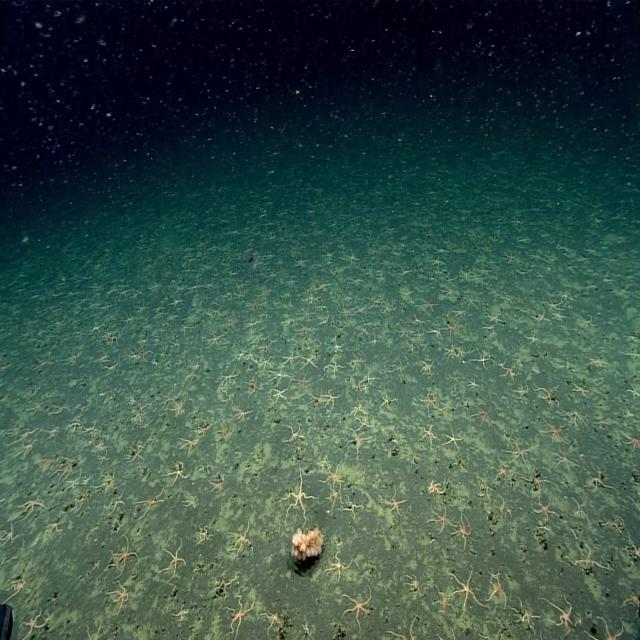brittle-stars: (283, 468, 312, 520), (340, 586, 372, 630), (450, 569, 480, 614), (228, 594, 255, 636), (546, 594, 573, 630), (135, 488, 165, 519), (23, 604, 46, 640), (514, 599, 538, 633), (328, 548, 349, 584), (232, 521, 253, 556), (431, 504, 452, 538), (163, 542, 185, 574), (20, 493, 47, 519), (505, 440, 530, 467), (108, 582, 130, 612), (454, 514, 472, 550), (385, 487, 406, 517), (7, 573, 27, 603), (167, 461, 188, 487), (555, 448, 575, 474), (493, 457, 512, 484), (533, 498, 555, 521), (264, 605, 282, 633), (488, 581, 507, 607), (536, 383, 558, 405), (437, 587, 455, 613), (126, 442, 145, 466), (542, 418, 561, 442), (345, 495, 362, 521), (444, 428, 462, 452), (349, 429, 366, 453), (327, 461, 343, 486), (420, 423, 436, 447), (285, 422, 306, 440), (270, 385, 288, 406), (500, 361, 517, 383), (55, 462, 74, 481), (48, 514, 63, 538), (221, 368, 239, 388), (270, 368, 290, 386), (622, 430, 640, 450), (326, 357, 342, 379), (428, 478, 447, 496), (474, 405, 492, 424), (180, 435, 200, 452), (441, 316, 458, 336), (572, 381, 589, 400), (421, 295, 437, 315), (198, 522, 212, 544), (234, 404, 251, 422), (295, 372, 312, 390), (326, 484, 342, 503), (213, 422, 230, 439), (209, 475, 225, 493), (390, 358, 408, 374), (380, 390, 394, 410), (420, 393, 436, 410), (545, 296, 561, 312), (281, 352, 298, 367), (350, 353, 364, 371), (439, 398, 453, 416), (301, 355, 317, 370), (474, 351, 490, 366), (398, 286, 414, 301), (208, 331, 222, 348), (248, 378, 262, 395), (312, 392, 326, 408), (196, 422, 210, 438), (304, 292, 318, 308), (259, 354, 272, 371), (419, 359, 432, 376), (326, 389, 338, 407), (351, 404, 365, 419), (431, 254, 444, 270), (172, 399, 184, 416), (94, 437, 107, 452), (533, 311, 548, 324), (467, 378, 479, 393), (298, 322, 310, 337), (85, 425, 98, 435)
